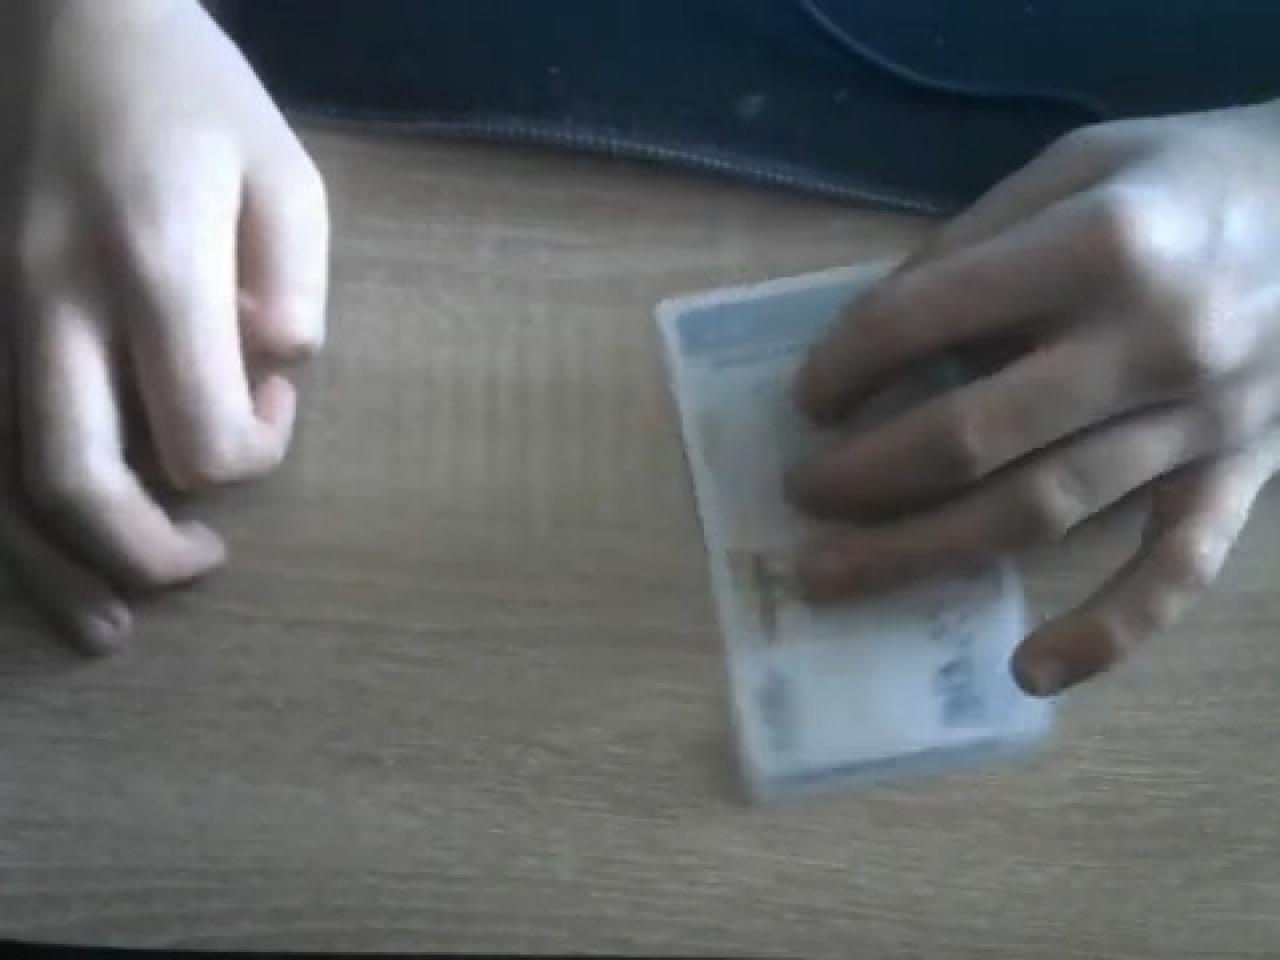20leva: (653, 101, 1280, 806)
